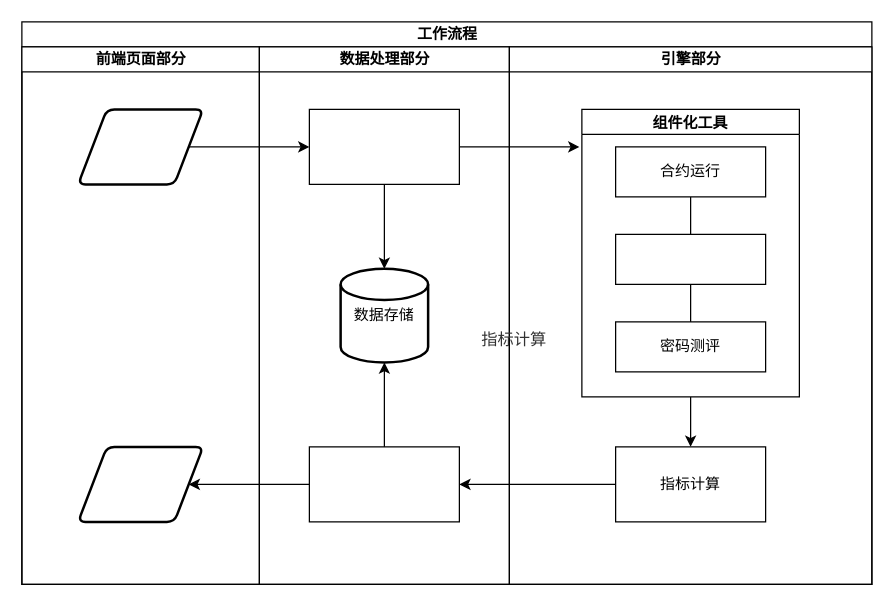
The diagram is 894 pixels wide and 606 high, and some of its shapes have lost their labels. Here are the shapes that lost their labels. From the top down, the centre of each, then its label:
the point at 140,146: 测试用例
the point at 383,146: 输入参数分析
the point at 690,258: 压力测试
the point at 140,483: 测试结果 可视化
the point at 383,484: 数据统计
